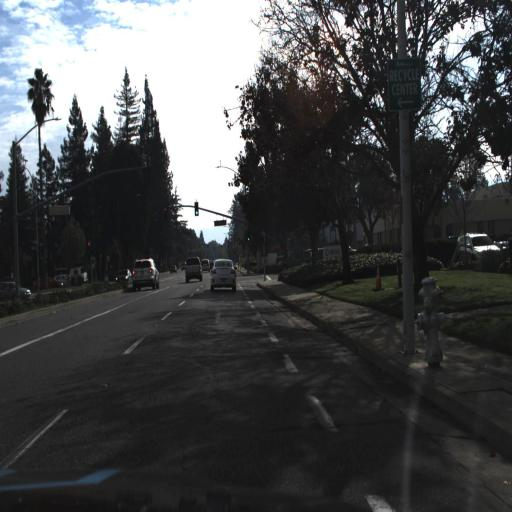car: (457, 231, 501, 266), (133, 256, 161, 290), (210, 256, 237, 291), (276, 250, 314, 272), (0, 282, 31, 303), (181, 257, 203, 284), (38, 275, 65, 291), (114, 268, 134, 288), (53, 271, 75, 287), (112, 266, 131, 282), (198, 256, 211, 273), (169, 264, 176, 272)
trafficLight-Green: (193, 200, 199, 218), (246, 229, 252, 244), (246, 231, 251, 248), (194, 200, 199, 215)
trafficLight-RedLeft: (85, 239, 92, 259), (163, 204, 170, 223), (85, 238, 91, 254), (162, 202, 167, 220)
truck: (68, 265, 87, 282)
